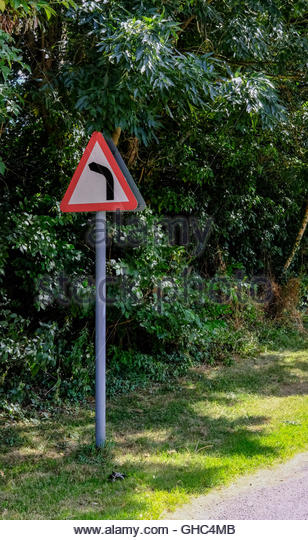Bend_to_left: (58, 129, 141, 215)
